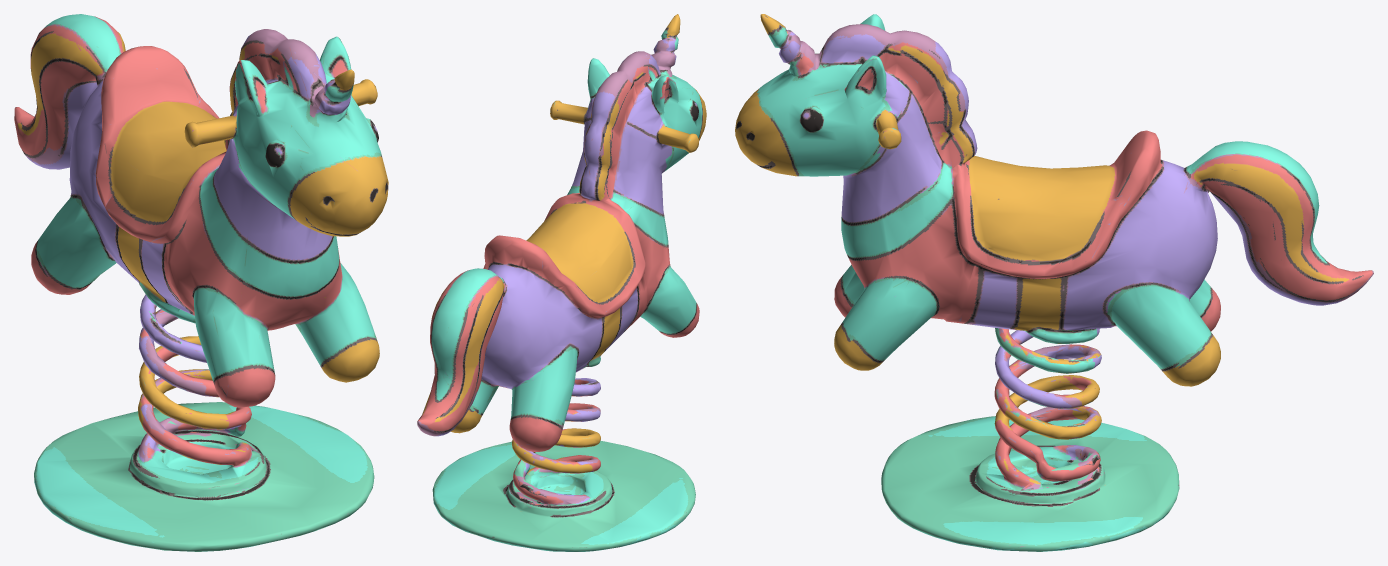
The model's file is play_horse.glb.
3 renders of one model, left to right at view 1: azimuth 30°, elevation 25°; view 2: azimuth 150°, elevation 25°; view 3: azimuth 270°, elevation 25°, orthographic. The views are drawn at different scales.
Parts seen in each view (by area): view 1: Mesh_0; view 2: Mesh_0; view 3: Mesh_0.
Part boxes in pixels (bbox=[...]): Mesh_0: bbox=[14, 14, 388, 551]; Mesh_0: bbox=[417, 14, 706, 551]; Mesh_0: bbox=[735, 14, 1373, 551].
Bounding box in the file's own units: 0.9286 × 1.55 × 1.9.
1 material, 1 textured.
